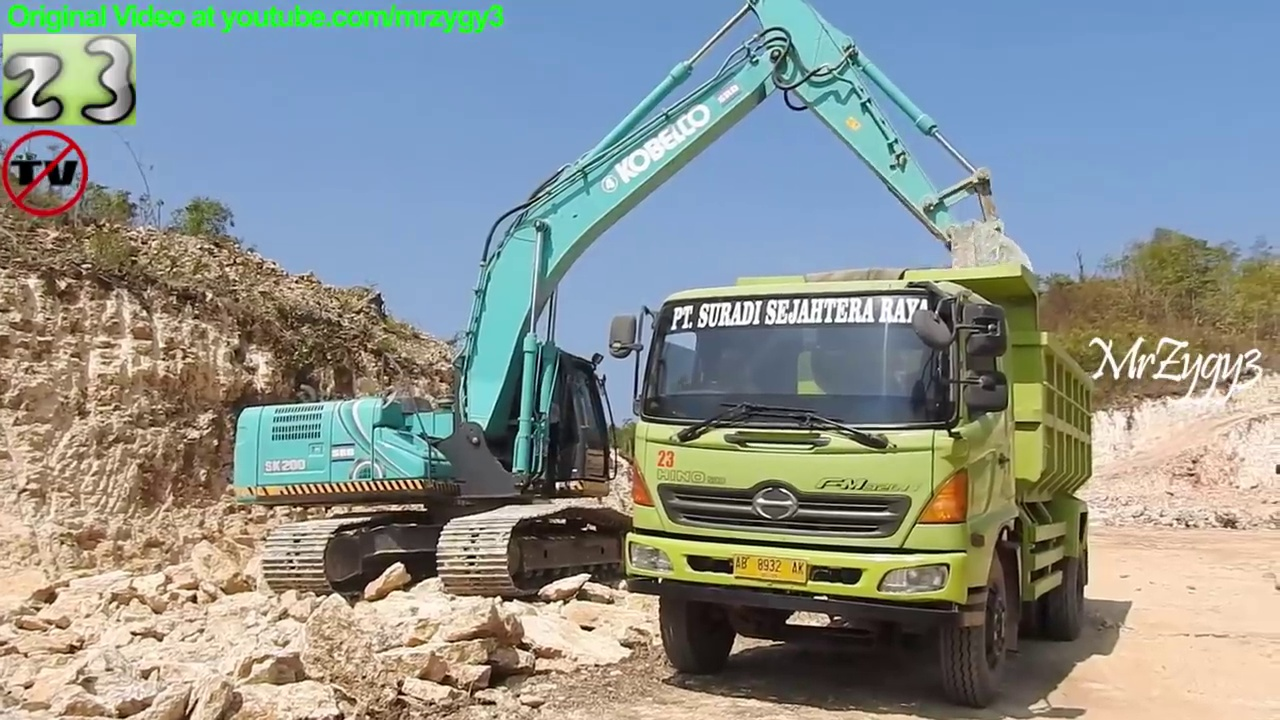excavator: (222, 1, 1047, 609)
truck: (600, 255, 1107, 713)
